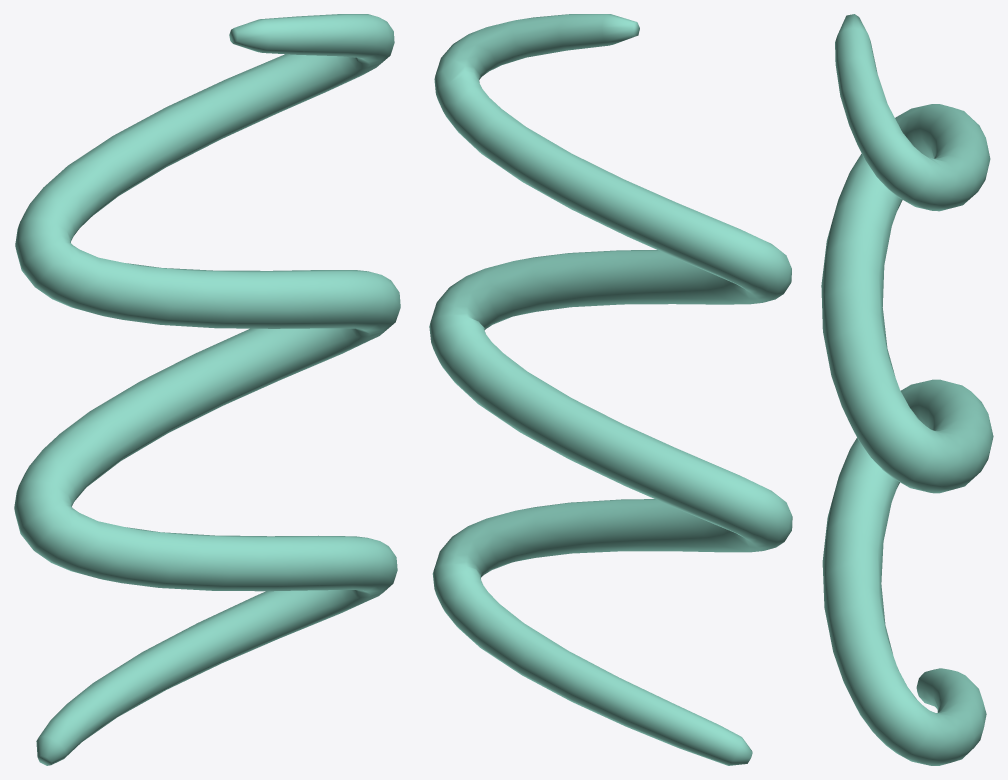
The model's file is aqua-squiggle.glb.
The picture shows the model from 3 angles, left to right: view 1: azimuth 30°, elevation 25°; view 2: azimuth 150°, elevation 25°; view 3: azimuth 270°, elevation 25°; orthographic projection. The views are drawn at different scales.
Visible parts, largest first — view 1: aqua-squiggle; view 2: aqua-squiggle; view 3: aqua-squiggle.
Part boxes in pixels (x1,y1,x2,y2): aqua-squiggle: [14, 14, 400, 765]; aqua-squiggle: [429, 14, 792, 765]; aqua-squiggle: [821, 14, 993, 765].
Bounding box in the file's own units: 1.08 × 2 × 0.4085.
